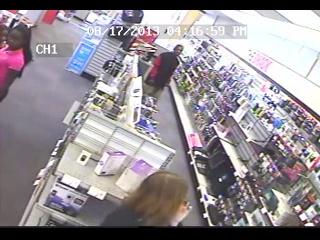Normal: (98, 170, 193, 227), (0, 24, 33, 103), (142, 44, 184, 102)
